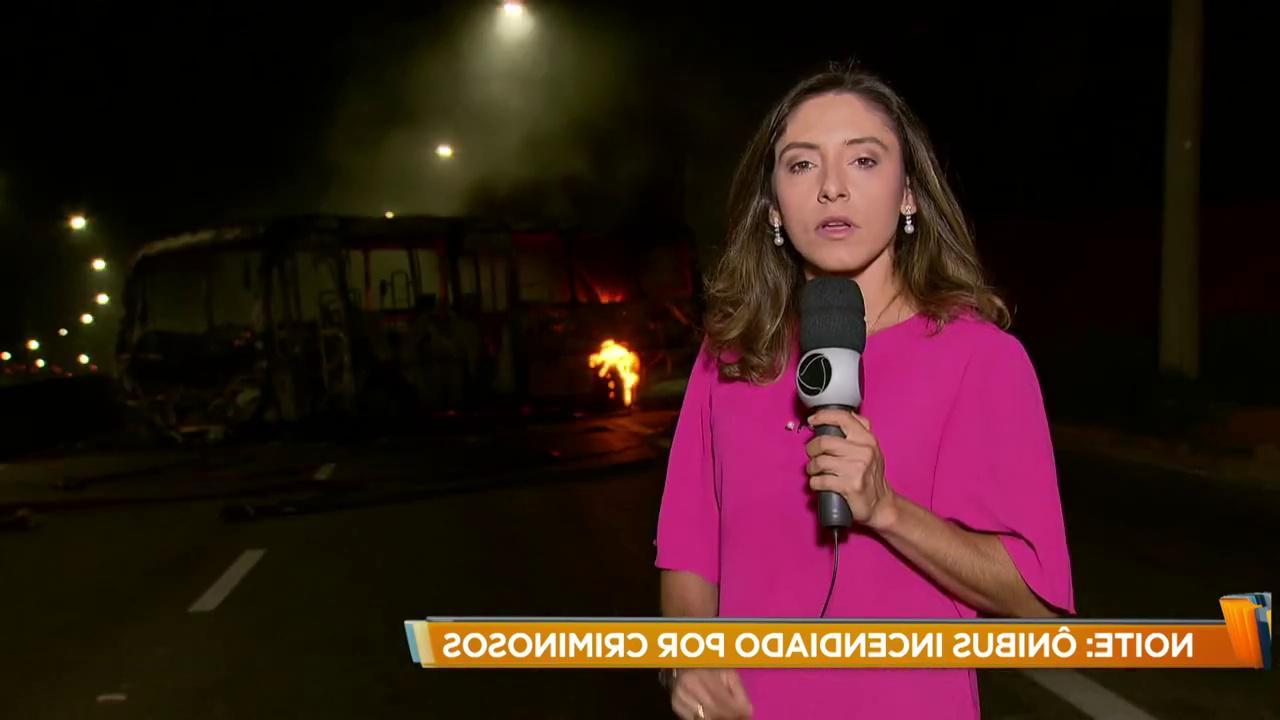Fire: (585, 331, 653, 407)
